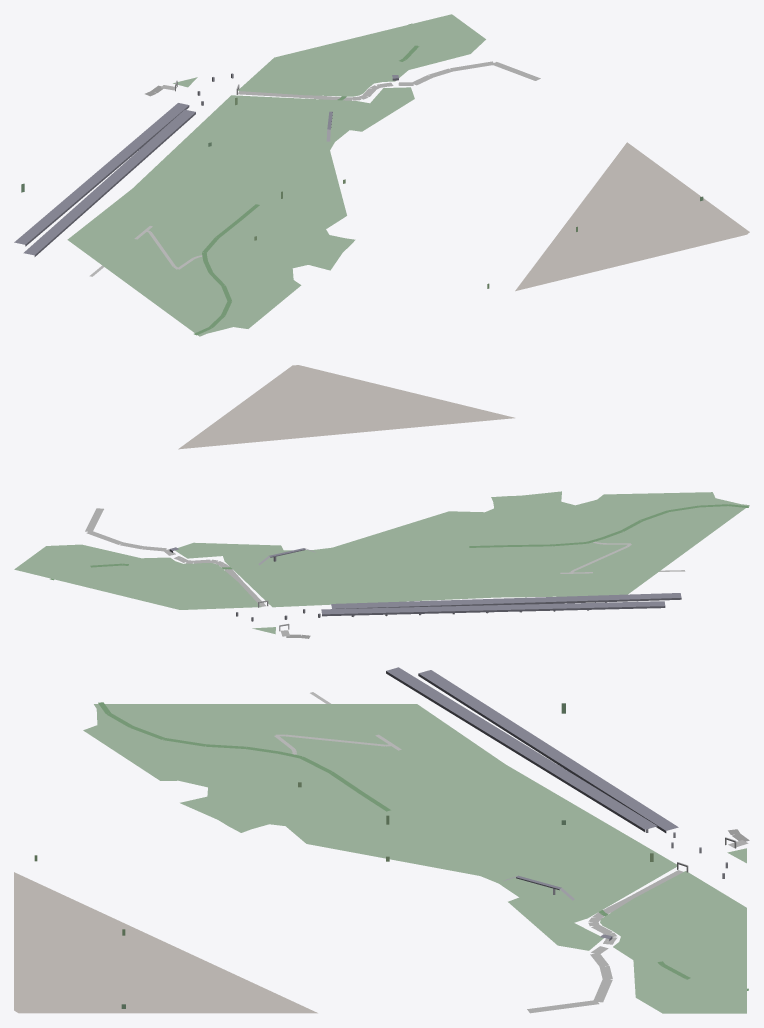
3 renders of one model, top to bottom at view 1: azimuth 30°, elevation 25°; view 2: azimuth 150°, elevation 25°; view 3: azimuth 270°, elevation 25°, orthographic. The views are drawn at different scales.
Bounding box in the file's own units: 550 × 8.42 × 502.
